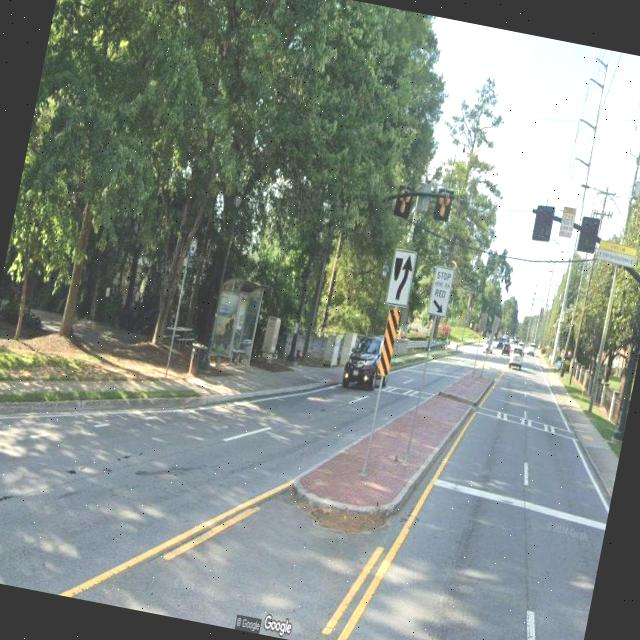seating: (229, 347, 246, 367)
shelter: (204, 274, 272, 379)
trash_can: (186, 342, 208, 380), (238, 338, 254, 367)
